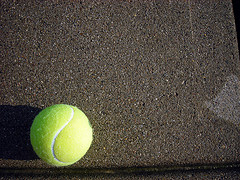tennis ball: (27, 102, 95, 168)
